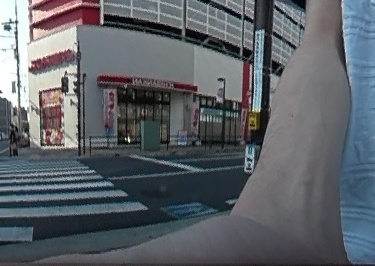person: (8, 122, 16, 155)
